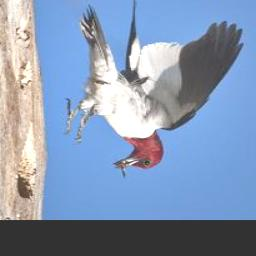Woodpecker: (65, 0, 245, 175)
